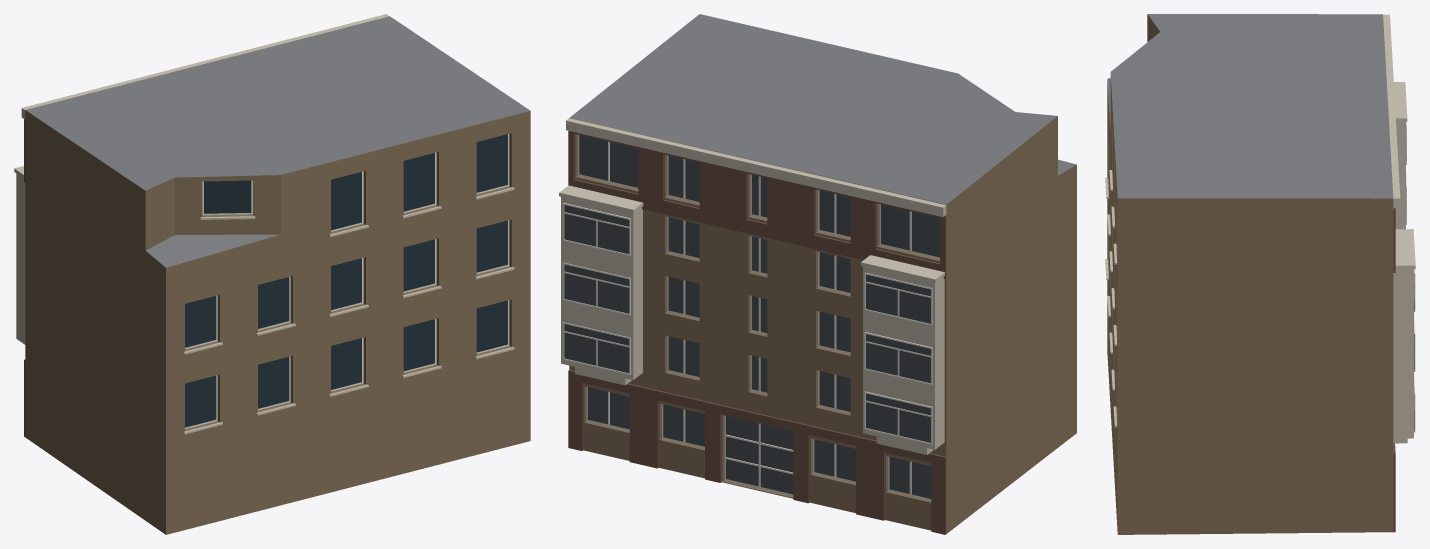
File: recipe-large-haarlemmerweg-93-111773.glb
The picture shows the model from 3 angles, left to right: view 1: azimuth 30°, elevation 25°; view 2: azimuth 150°, elevation 25°; view 3: azimuth 270°, elevation 25°; orthographic projection.
Parts seen in each view (by area): view 1: haarlemmerweg-93-111773; view 2: haarlemmerweg-93-111773; view 3: haarlemmerweg-93-111773.
Part boxes in pixels (left/top/right/bottom): haarlemmerweg-93-111773: left=14, top=14, right=530, bottom=534; haarlemmerweg-93-111773: left=559, top=14, right=1076, bottom=534; haarlemmerweg-93-111773: left=1105, top=14, right=1415, bottom=534.
Size of the model in its own units: 17.77 by 14.94 by 12.47.
